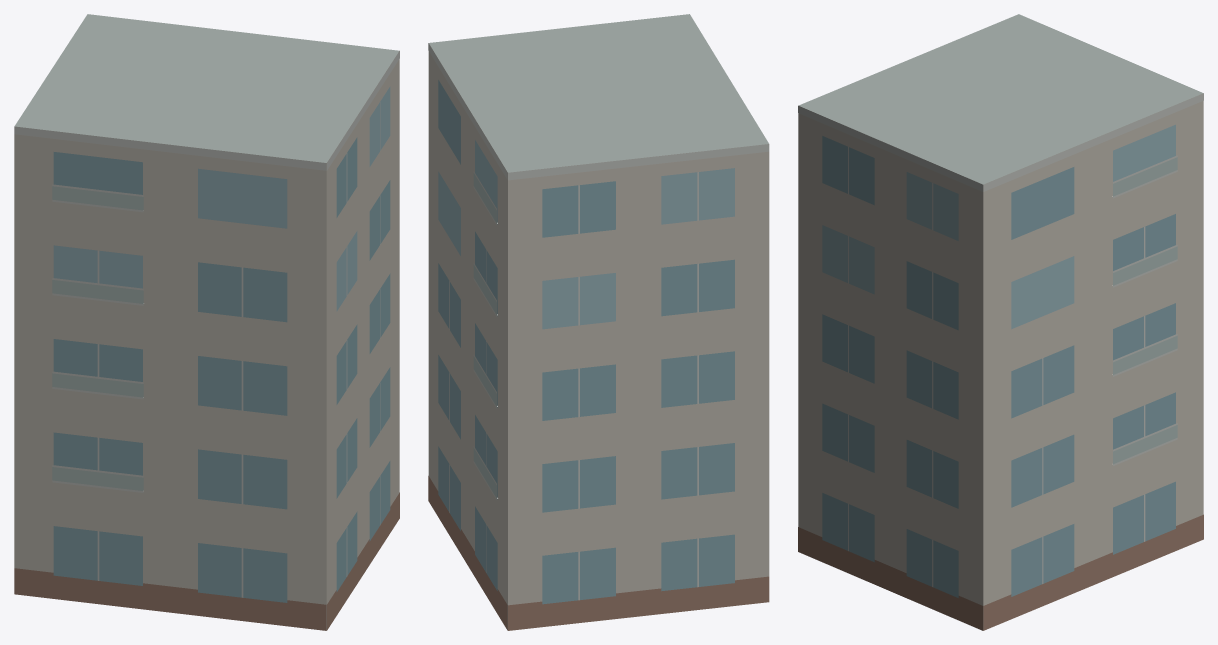
File: survey-upis-32975686.glb
3 views of the same model, side by side, from view 1: azimuth 30°, elevation 25°; view 2: azimuth 150°, elevation 25°; view 3: azimuth 270°, elevation 25° (orthographic). The views are drawn at different scales.
Visible parts, largest first — view 1: survey-upis-32975686.tmp; view 2: survey-upis-32975686.tmp; view 3: survey-upis-32975686.tmp.
Boxes of the visible parts, x1=… form: survey-upis-32975686.tmp: x1=14, y1=14, x2=399, y2=630; survey-upis-32975686.tmp: x1=428, y1=14, x2=769, y2=630; survey-upis-32975686.tmp: x1=798, y1=14, x2=1203, y2=630.
Bounding box in the file's own units: 11.9 × 14.5 × 11.95.
